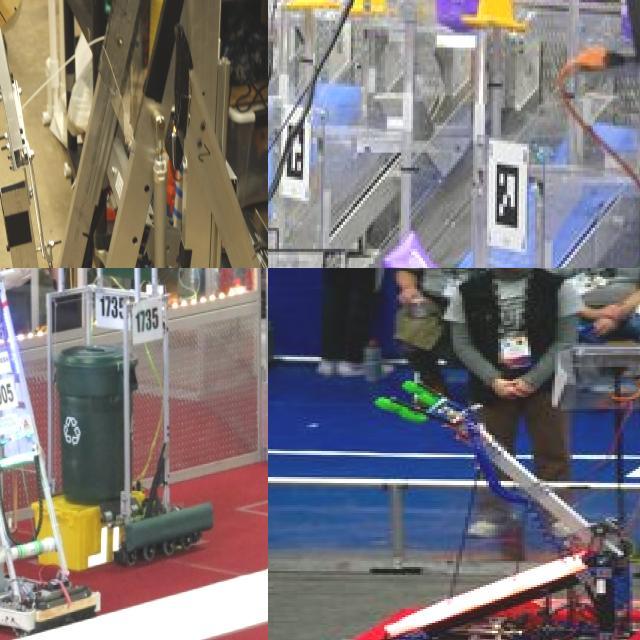FRC-Robots: (276, 300, 640, 640), (0, 0, 268, 268), (64, 268, 225, 563), (268, 0, 435, 268), (0, 268, 65, 640)
